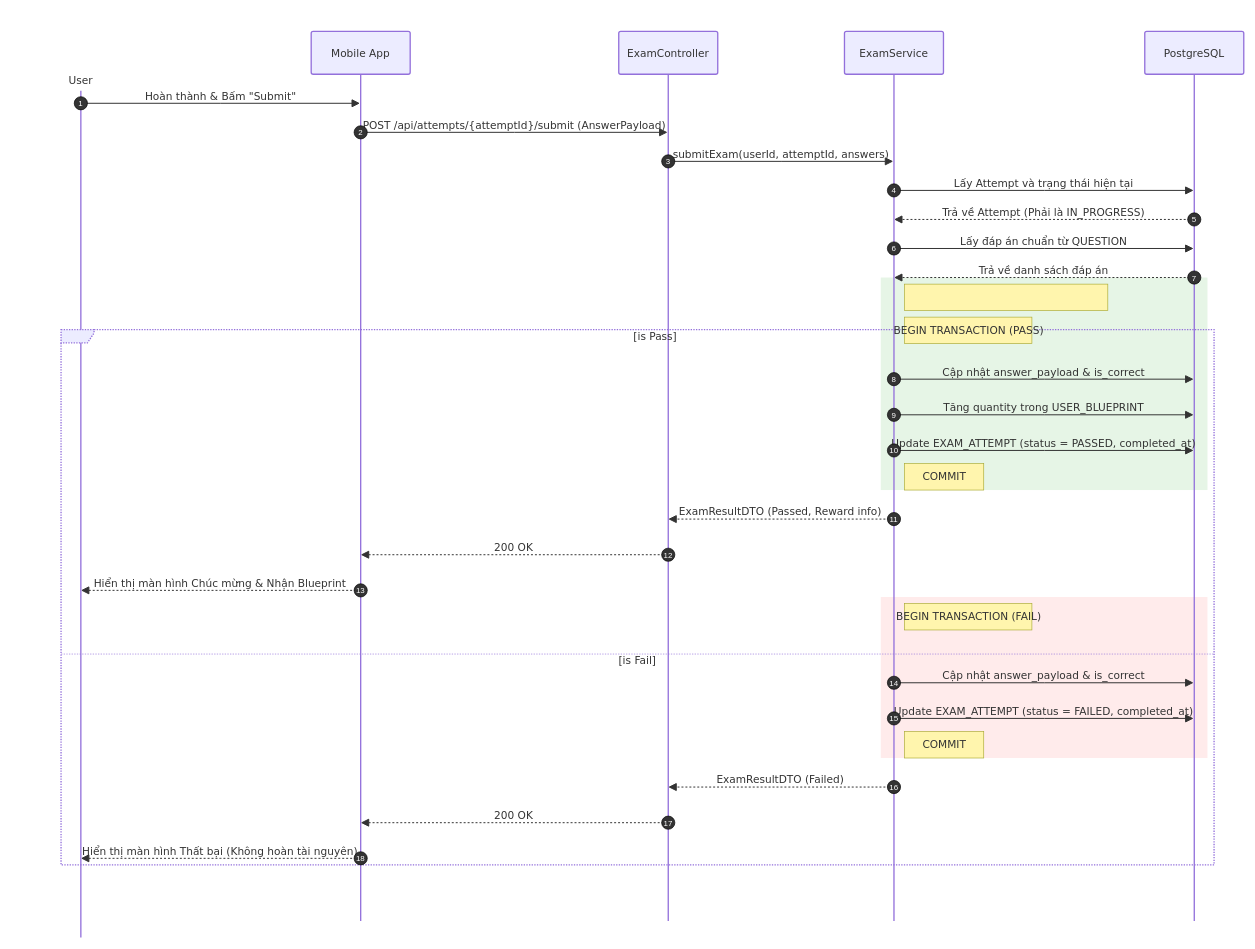
Some shapes in this 1255 by 949 pixel diagram are drawn without their labels. The shapes that lost their labels are listed below. From the top down, each one's centre as x and y in pixels, then its label:
point (1006, 297): Chấm điểm logic (Server-side validation)
point (637, 597): alt
